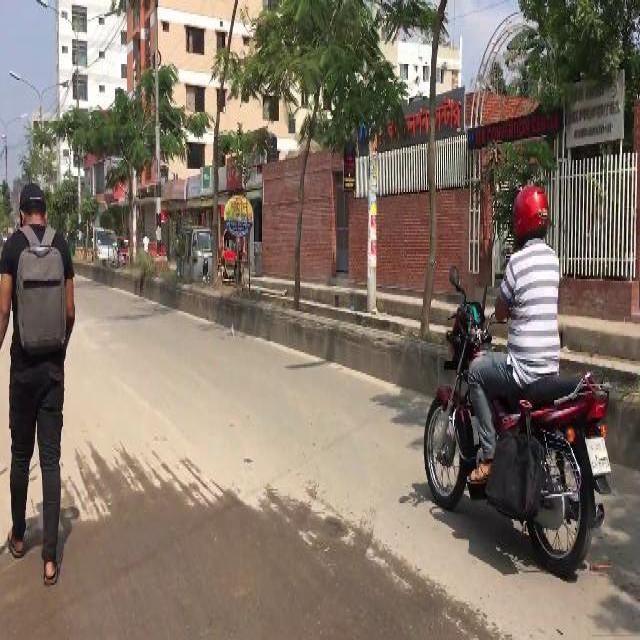bike: (422, 186, 608, 580)
vehicle: (177, 228, 214, 279), (219, 224, 249, 286), (90, 228, 118, 265)
